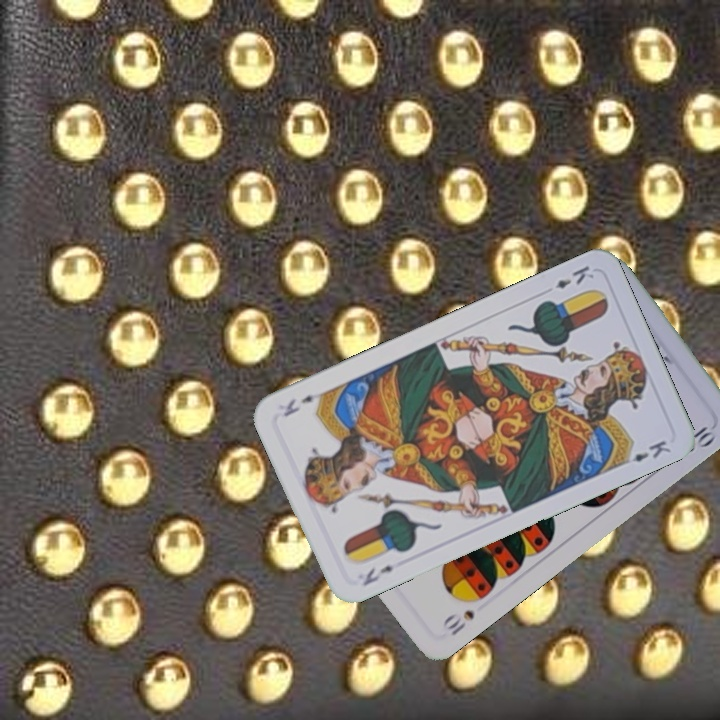EK: (551, 261, 597, 291), (358, 561, 397, 589)
S10: (445, 606, 477, 639)
